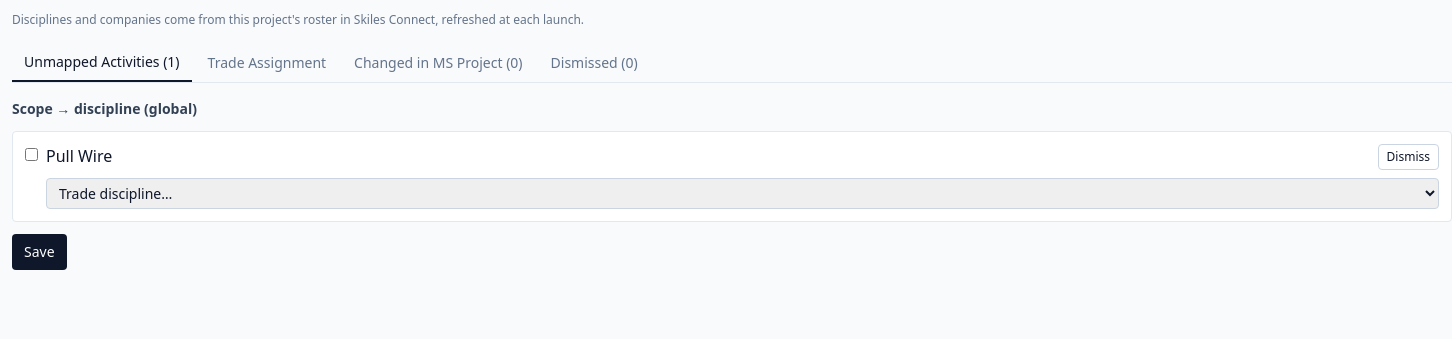
Test: TradesPanel › shows the error and does not refresh when dismiss fails
What coordinates should you click on to do the following:
click the button "Dismiss"
I would click on:
 (1408, 157)
Its box is [1378, 144, 1439, 170].
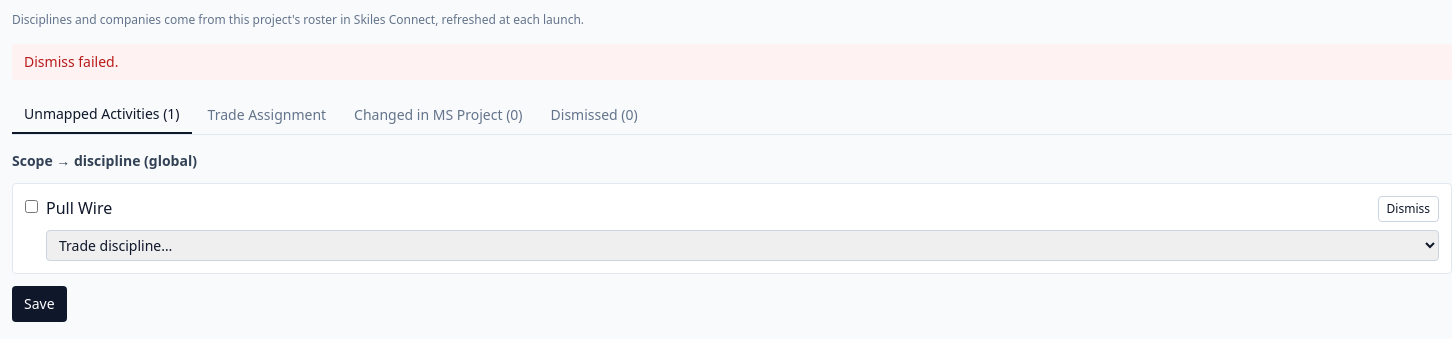
Check: the text "Dismiss failed." is shown, box [12, 44, 1451, 80]
